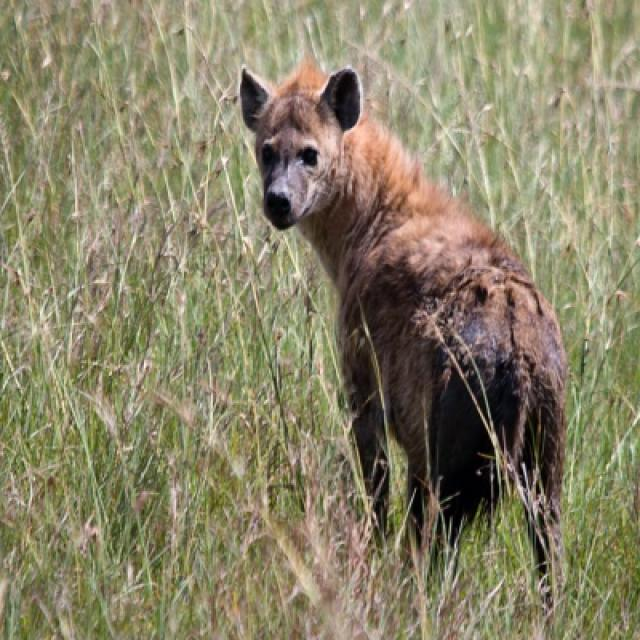hyena: (237, 61, 571, 605)
